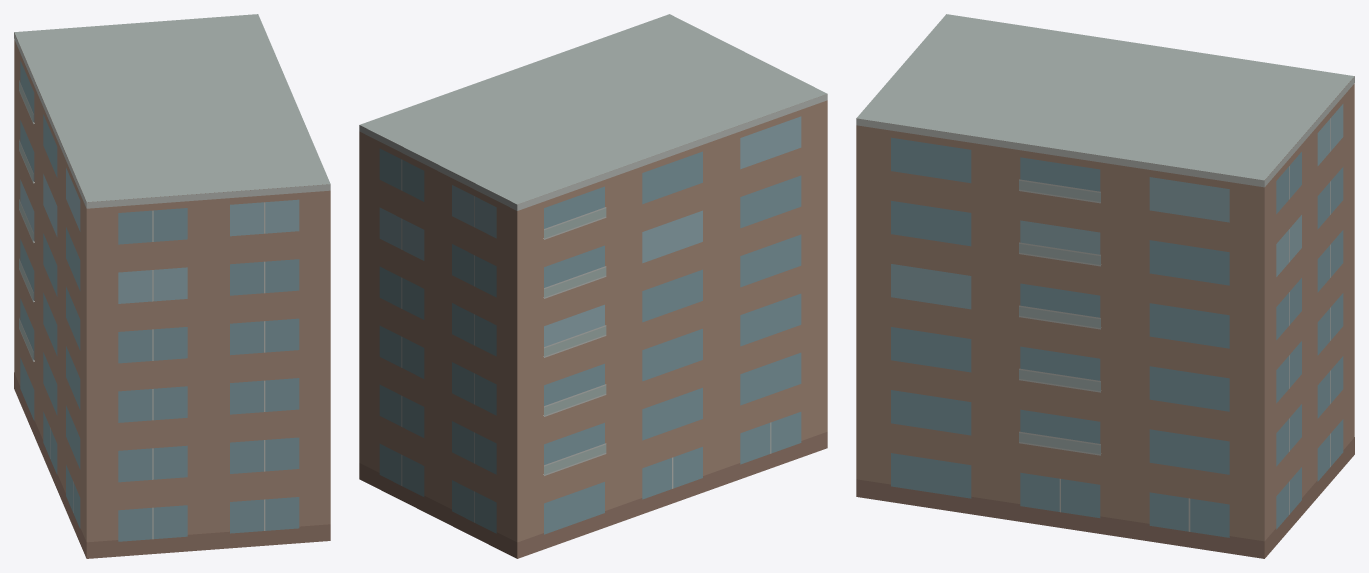
The model's file is survey-upis-32894362.glb.
3 renders of one model, left to right at view 1: azimuth 30°, elevation 25°; view 2: azimuth 150°, elevation 25°; view 3: azimuth 270°, elevation 25°, orthographic. The views are drawn at different scales.
Visible parts, largest first — view 1: survey-upis-32894362.tmp; view 2: survey-upis-32894362.tmp; view 3: survey-upis-32894362.tmp.
Part boxes in pixels (bbox=[...]): survey-upis-32894362.tmp: bbox=[14, 14, 330, 558]; survey-upis-32894362.tmp: bbox=[359, 14, 827, 558]; survey-upis-32894362.tmp: bbox=[856, 14, 1354, 558].
Bounding box in the file's own units: 12.55 × 13.3 × 15.89.
